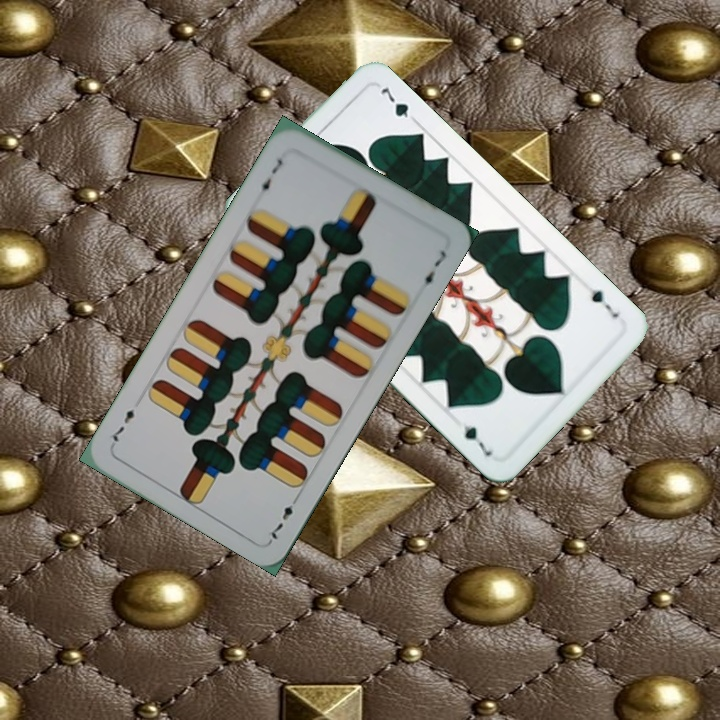E7: (266, 490, 303, 544), (253, 154, 286, 198)
G7: (583, 280, 622, 321)
